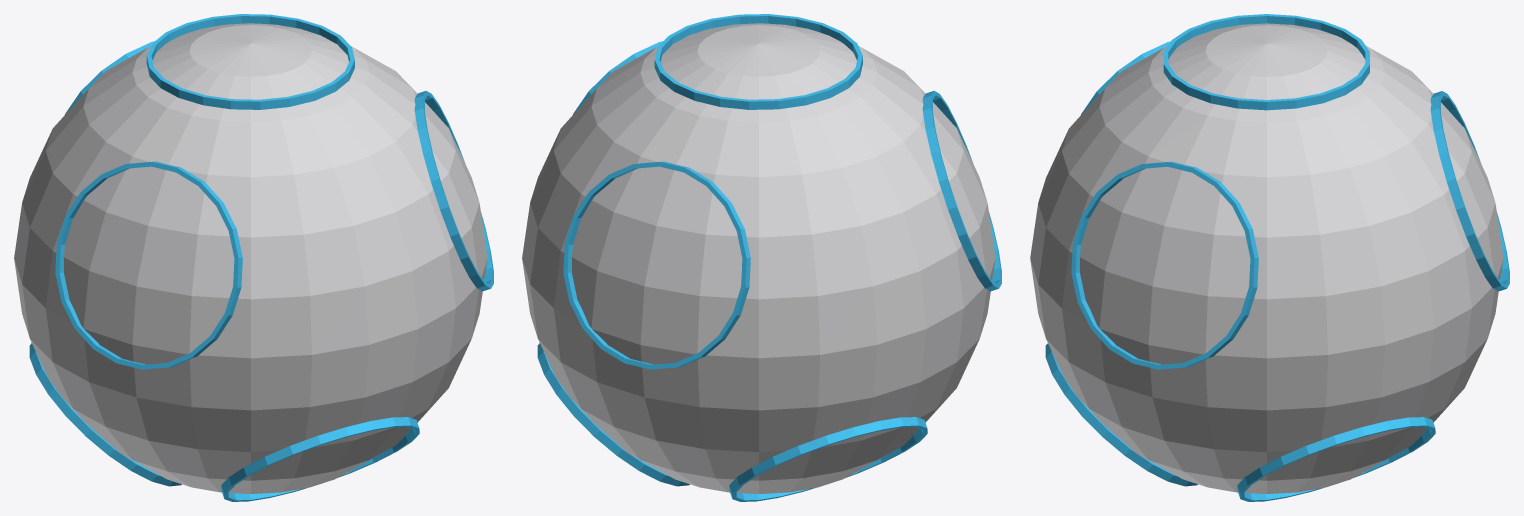
File: vge_gravhulk_orb.obj
3 renders of one model, left to right at view 1: azimuth 30°, elevation 25°; view 2: azimuth 150°, elevation 25°; view 3: azimuth 270°, elevation 25°, orthographic.
Parts seen in each view (by area): view 1: vge_gravhulk_orb_0, vge_gravhulk_orb_1, vge_gravhulk_orb_4, vge_gravhulk_orb_6, vge_gravhulk_orb_3, vge_gravhulk_orb_7; view 2: vge_gravhulk_orb_0, vge_gravhulk_orb_1, vge_gravhulk_orb_2, vge_gravhulk_orb_7, vge_gravhulk_orb_4, vge_gravhulk_orb_5; view 3: vge_gravhulk_orb_0, vge_gravhulk_orb_1, vge_gravhulk_orb_3, vge_gravhulk_orb_5, vge_gravhulk_orb_2, vge_gravhulk_orb_6.
Part boxes in pixels (x1,y1,x2,y2): vge_gravhulk_orb_0: (14, 23, 487, 493); vge_gravhulk_orb_1: (146, 14, 354, 109); vge_gravhulk_orb_4: (55, 161, 242, 369); vge_gravhulk_orb_6: (221, 417, 419, 501); vge_gravhulk_orb_3: (414, 90, 493, 291); vge_gravhulk_orb_7: (29, 343, 181, 486); vge_gravhulk_orb_0: (522, 23, 995, 493); vge_gravhulk_orb_1: (654, 14, 862, 109); vge_gravhulk_orb_2: (563, 161, 750, 369); vge_gravhulk_orb_7: (729, 417, 927, 501); vge_gravhulk_orb_4: (922, 90, 1001, 291); vge_gravhulk_orb_5: (537, 343, 689, 486); vge_gravhulk_orb_0: (1030, 23, 1503, 493); vge_gravhulk_orb_1: (1163, 14, 1369, 110); vge_gravhulk_orb_3: (1071, 161, 1258, 369); vge_gravhulk_orb_5: (1237, 417, 1435, 501); vge_gravhulk_orb_2: (1430, 91, 1509, 291); vge_gravhulk_orb_6: (1045, 343, 1197, 486).
Size of the model in its own units: 1.62 by 1.6 by 1.62.
